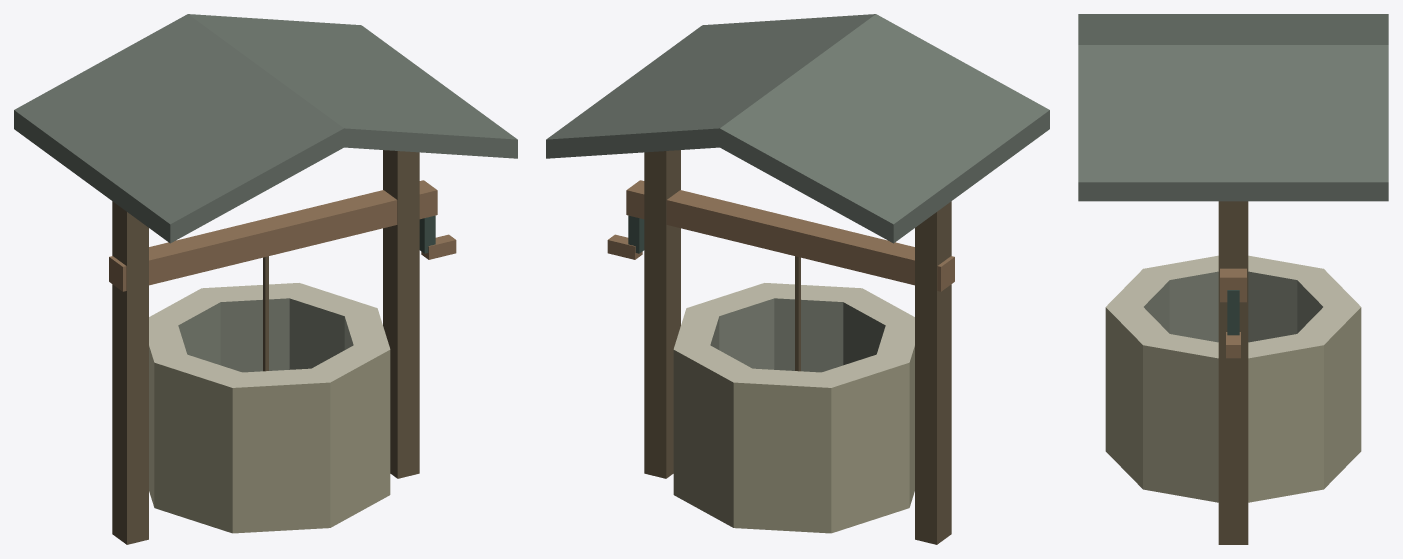
File: ua_well.obj
The picture shows the model from 3 angles, left to right: view 1: azimuth 30°, elevation 25°; view 2: azimuth 150°, elevation 25°; view 3: azimuth 270°, elevation 25°; orthographic projection.
Parts seen in each view (by area): view 1: ua_well; view 2: ua_well; view 3: ua_well.
Boxes of the visible parts, x1,y1,x2,y2 form: ua_well: (14,14,517,544); ua_well: (546,14,1049,544); ua_well: (1078,14,1388,544).
Size of the model in its own units: 1.97 by 2.26 by 1.48.
